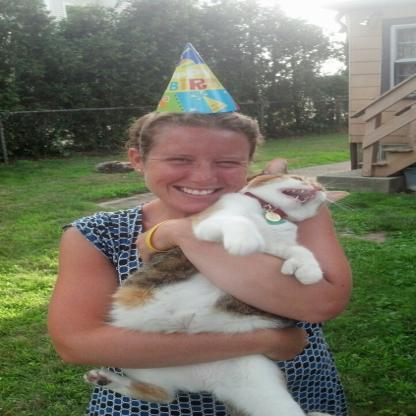Target: (99, 168, 346, 416)
